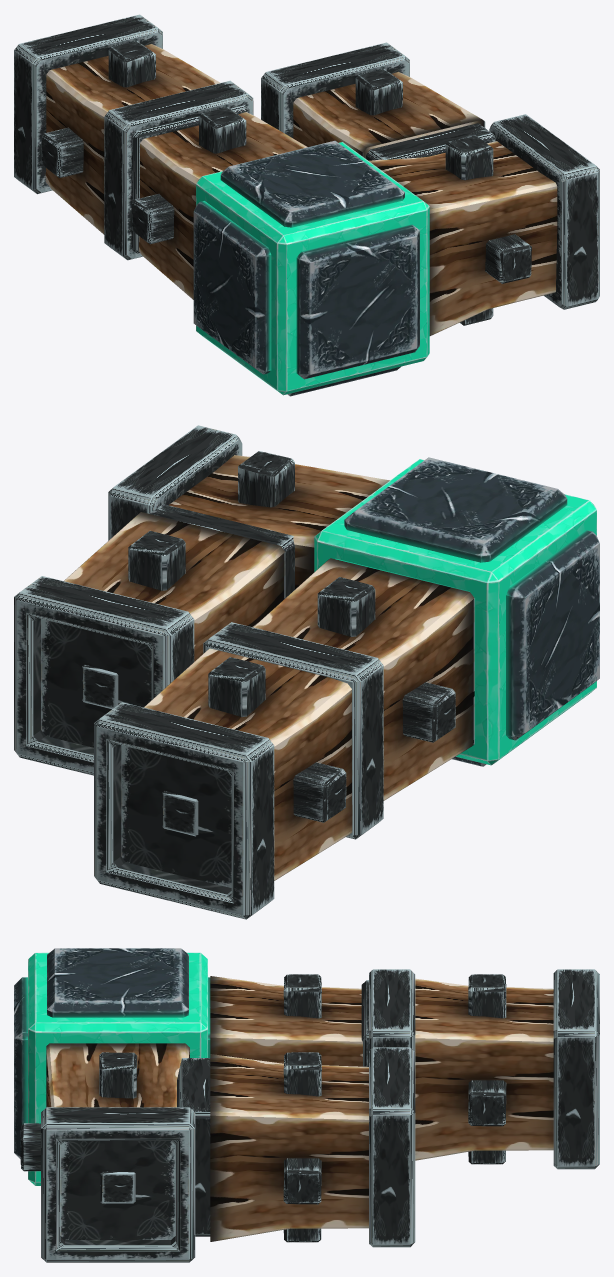
Rendered from step_005.glb.
3 renders of one model, top to bottom at view 1: azimuth 30°, elevation 25°; view 2: azimuth 150°, elevation 25°; view 3: azimuth 270°, elevation 25°, orthographic. The views are drawn at different scales.
Visible parts, largest first — view 1: SingleWoodenBlock_b17ab23d-d548-4822-94ff-2b90ef57f299, StartingBlock_415c59ad-0f09-411c-bf36-93d5d19f7b9a; view 2: SingleWoodenBlock_b17ab23d-d548-4822-94ff-2b90ef57f299, StartingBlock_415c59ad-0f09-411c-bf36-93d5d19f7b9a; view 3: SingleWoodenBlock_b17ab23d-d548-4822-94ff-2b90ef57f299, StartingBlock_415c59ad-0f09-411c-bf36-93d5d19f7b9a.
Boxes of the visible parts, <box> form: SingleWoodenBlock_b17ab23d-d548-4822-94ff-2b90ef57f299: <box>14,14,599,335</box>; StartingBlock_415c59ad-0f09-411c-bf36-93d5d19f7b9a: <box>193,140,429,396</box>; SingleWoodenBlock_b17ab23d-d548-4822-94ff-2b90ef57f299: <box>14,425,474,919</box>; StartingBlock_415c59ad-0f09-411c-bf36-93d5d19f7b9a: <box>314,457,599,766</box>; SingleWoodenBlock_b17ab23d-d548-4822-94ff-2b90ef57f299: <box>20,969,599,1262</box>; StartingBlock_415c59ad-0f09-411c-bf36-93d5d19f7b9a: <box>14,948,210,1185</box>.
Bounding box in the file's own units: 2.18 × 1.13 × 3.17.
Materials: 2 (2 with a texture image).
